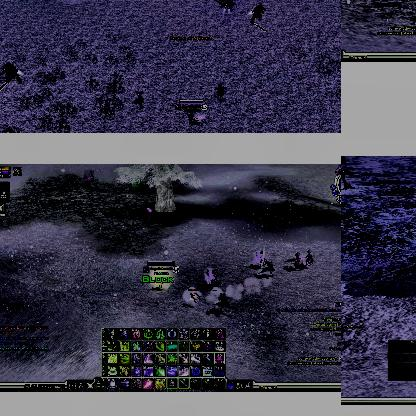caliana: (214, 292, 235, 314), (205, 268, 221, 289), (285, 254, 301, 270), (132, 89, 144, 109), (214, 83, 226, 103), (254, 250, 266, 270), (302, 250, 314, 268), (262, 260, 276, 274), (144, 200, 156, 216), (84, 170, 94, 182)
